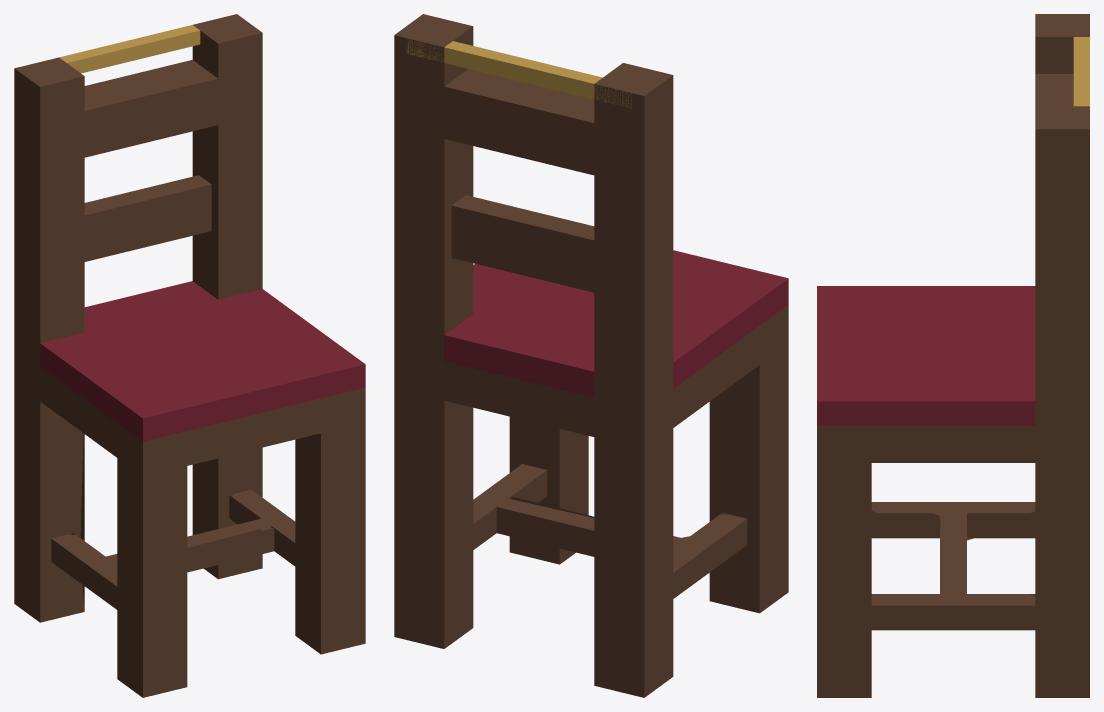
The model's file is chairCushion.glb.
3 renders of one model, left to right at view 1: azimuth 30°, elevation 25°; view 2: azimuth 150°, elevation 25°; view 3: azimuth 270°, elevation 25°, orthographic. The views are drawn at different scales.
Visible parts, largest first — view 1: chairCushion(Clone); view 2: chairCushion(Clone); view 3: chairCushion(Clone).
Boxes of the visible parts, x1=… form: chairCushion(Clone): x1=14, y1=14, x2=365, y2=697; chairCushion(Clone): x1=394, y1=14, x2=788, y2=697; chairCushion(Clone): x1=817, y1=14, x2=1089, y2=697.
Bounding box in the file's own units: 0.2 × 0.46 × 0.2.
